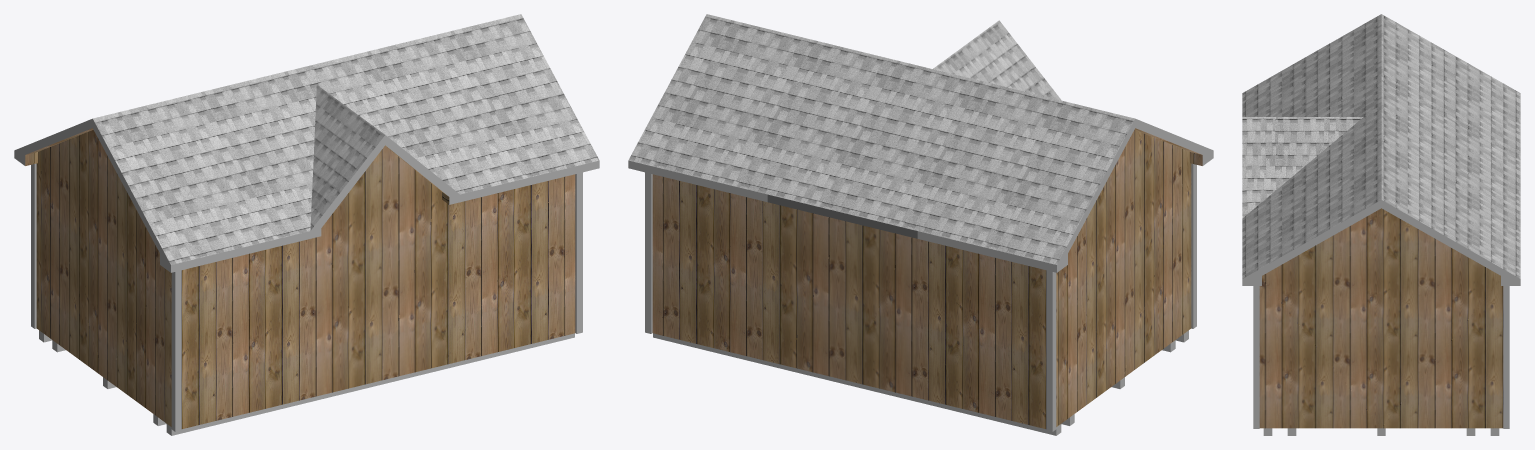
File: Victorian Shed_10x16.obj
The picture shows the model from 3 angles, left to right: view 1: azimuth 30°, elevation 25°; view 2: azimuth 150°, elevation 25°; view 3: azimuth 270°, elevation 25°; orthographic projection. The views are drawn at different scales.
Visible parts, largest first — view 1: Shed, Roof, Sides, Trim, Floor; view 2: Shed, Roof, Sides, Trim, Floor; view 3: Roof, Shed, Sides, Trim, Floor.
Part boxes in pixels (bbox=[...]): Shed: bbox=[25, 128, 575, 428]; Roof: bbox=[93, 14, 599, 264]; Sides: bbox=[14, 118, 599, 272]; Trim: bbox=[31, 163, 582, 431]; Floor: bbox=[39, 330, 574, 435]; Shed: bbox=[652, 128, 1202, 428]; Roof: bbox=[628, 14, 1134, 264]; Sides: bbox=[628, 118, 1213, 272]; Trim: bbox=[645, 163, 1196, 431]; Floor: bbox=[653, 330, 1188, 435]; Roof: bbox=[1242, 14, 1520, 278]; Shed: bbox=[1259, 208, 1503, 428]; Sides: bbox=[1242, 200, 1520, 285]; Trim: bbox=[1253, 286, 1509, 428]; Floor: bbox=[1263, 428, 1499, 435].
Size of the model in its own units: 5.18 by 3.14 by 3.28.
